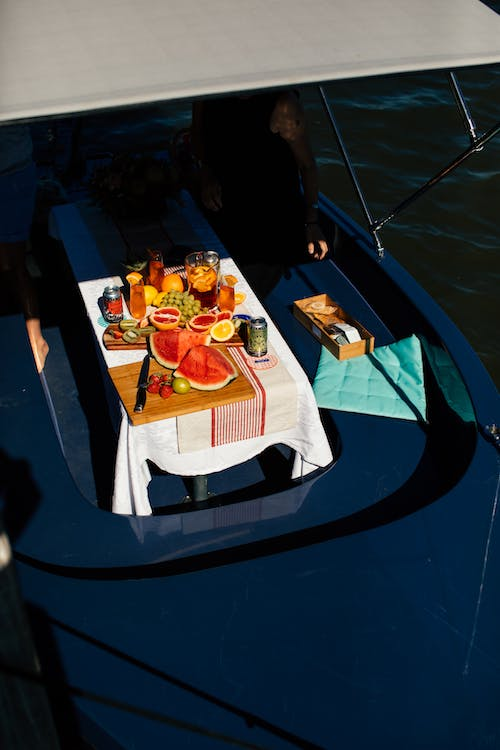knife: (127, 351, 153, 415)
